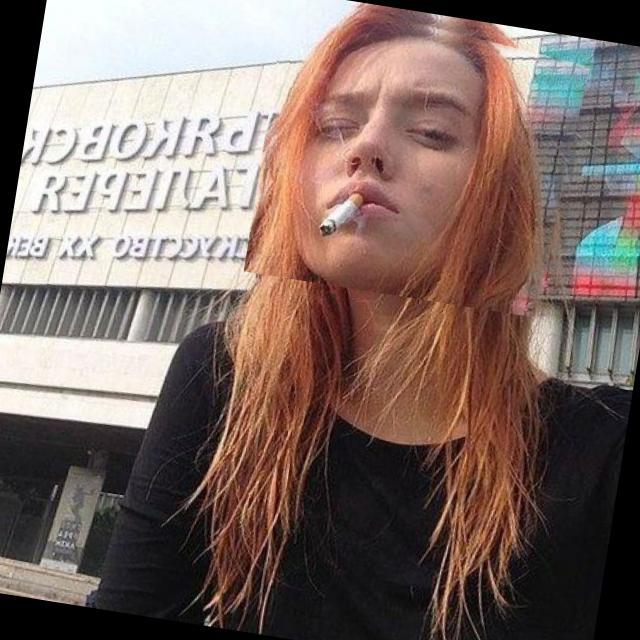cigarette: (327, 166, 383, 249)
